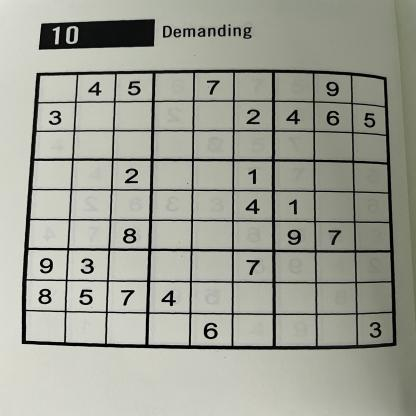sudoku: (17, 65, 401, 353)
